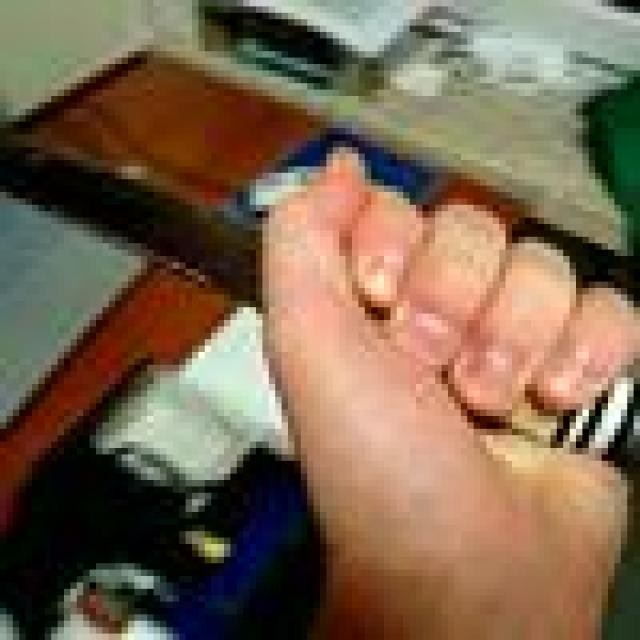knife: (628, 376, 640, 472)
